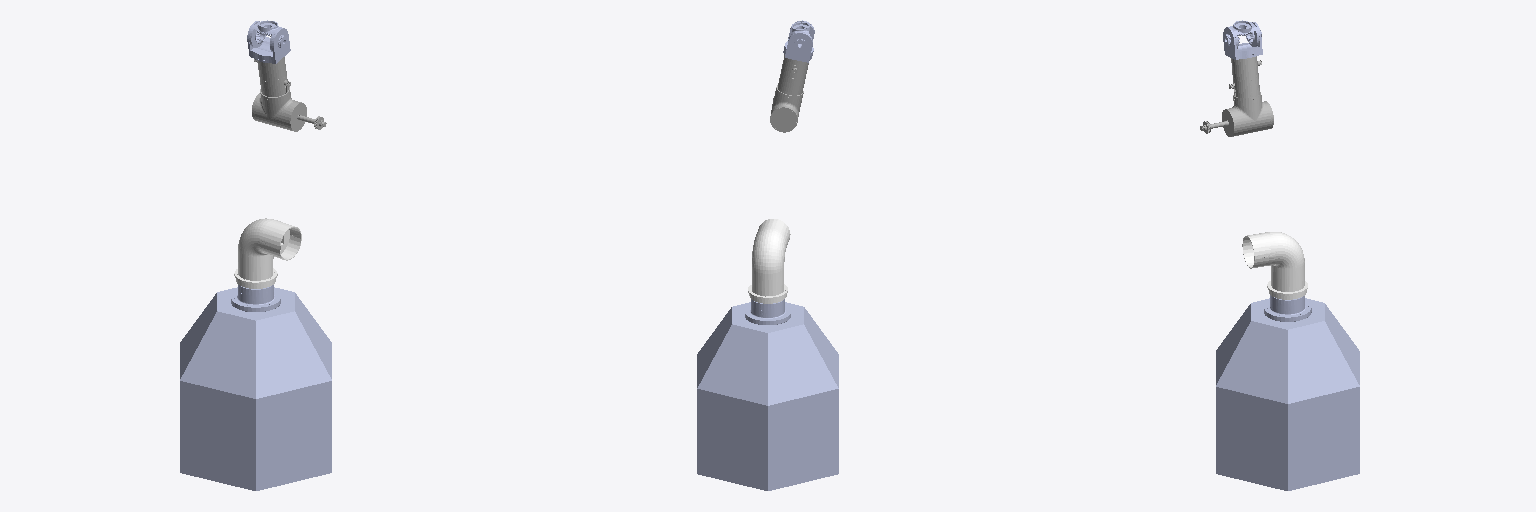
URDF robot description (full-arm-mar24-urdf-and-meshes):
<?xml version="1.0" encoding="utf-8"?>
<!-- This URDF was automatically created by SolidWorks to URDF Exporter! Originally created by Stephen Brawner (brawner@gmail.com) 
     Commit Version: 1.6.0-4-g7f85cfe  Build Version: 1.6.7995.38578
     For more information, please see http://wiki.ros.org/sw_urdf_exporter -->
<robot
  name="full-arm-mar24-urdf-and-meshes">
  <!-- Added dummy link so that KDL/intertial values are not ignored (KDL warning when running ros2 launch waybionic_bringup display.launch.py gone)-->
  <link name="world"/>
  <joint name="world_to_base" type="fixed">
    <parent link="world"/>
    <child  link="base_link"/>
    <!-- Center the exported base mesh on the world origin and put its lowest
         point on the Z=0 ground plane. The STL vertices retain the original
         SolidWorks assembly coordinates. -->
    <origin xyz="-0.800105 1.643392 -0.749746" rpy="0 0 0"/>
  </joint>
  <link
    name="base_link">
    <inertial>
      <origin
        xyz="0.8001 -1.6434 0.96967"
        rpy="0 0 0" />
      <mass
        value="3.0245" />
      <inertia
        ixx="0.13578"
        ixy="-3.996E-13"
        ixz="-3.2341E-12"
        iyy="0.12646"
        iyz="-2.0376E-12"
        izz="0.13578" />
    </inertial>
    <visual>
      <origin
        xyz="0 0 0"
        rpy="0 0 0" />
      <geometry>
        <mesh
          filename="package://waybionic_description/meshes/base_link.STL" />
      </geometry>
      <material
        name="">
        <color
          rgba="0.79216 0.81961 0.93333 1" />
      </material>
    </visual>
    <!-- Lightweight primitives keep collision checking fast and avoid asking
         FCL to build a BVH from the high-resolution visual mesh. -->
    <collision name="base_body_collision">
      <origin
        xyz="0.800105 -1.643392 1.00172"
        rpy="0 0 0" />
      <geometry>
        <box size="0.54 0.47 0.51" />
      </geometry>
    </collision>
    <collision name="base_top_collision">
      <origin
        xyz="0.800105 -1.643392 1.2862"
        rpy="0 0 0" />
      <geometry>
        <cylinder radius="0.078" length="0.070" />
      </geometry>
    </collision>
  </link>
  <link
    name="shoulder">
    <inertial>
      <origin
        xyz="0.018803 -0.01167 8.6599E-06"
        rpy="0 0 0" />
      <mass
        value="0.73934" />
      <inertia
        ixx="0.0018615"
        ixy="-0.0003921"
        ixz="-1.0719E-07"
        iyy="0.0015793"
        iyz="9.4857E-08"
        izz="0.0021357" />
    </inertial>
    <visual>
      <origin
        xyz="0 0 0"
        rpy="0 0 0" />
      <geometry>
        <mesh
          filename="package://waybionic_description/meshes/shoulder.STL" />
      </geometry>
      <material
        name="">
        <color
          rgba="1 1 1 1" />
      </material>
    </visual>
    <collision name="shoulder_body_collision">
      <origin
        xyz="0.034 0.035 0"
        rpy="0 0 0" />
      <geometry>
        <box size="0.21 0.235 0.14" />
      </geometry>
    </collision>
    <collision name="shoulder_shaft_collision">
      <origin
        xyz="0 -0.107 0"
        rpy="1.5708 0 0" />
      <geometry>
        <cylinder radius="0.040" length="0.070" />
      </geometry>
    </collision>
  </link>
  <joint
    name="joint1"
    type="revolute">
    <origin
      xyz="0.8001 -1.6434 1.3903"
      rpy="1.5708 0 -1.1999" />
    <parent
      link="base_link" />
    <child
      link="shoulder" />
    <axis
      xyz="0 0 1" />
    <limit
      lower="-3.14"
      upper="3.14"
      effort="100"
      velocity="1" />
  </joint>
  <link
    name="elbow">
    <inertial>
      <origin
        xyz="-0.10994 0.2063 0.060408"
        rpy="0 0 0" />
      <mass
        value="1.6571" />
      <inertia
        ixx="0.0040049"
        ixy="9.7618E-05"
        ixz="2.4251E-05"
        iyy="0.0020313"
        iyz="-0.00043052"
        izz="0.0038422" />
    </inertial>
    <visual>
      <origin
        xyz="0 0 0"
        rpy="0 0 0" />
      <geometry>
        <mesh
          filename="package://waybionic_description/meshes/elbow.STL" />
      </geometry>
      <material
        name="">
        <color
          rgba="0.75294 0.75294 0.75294 1" />
      </material>
    </visual>
    <collision name="elbow_proximal_collision">
      <origin
        xyz="-0.071 0.044 0.021"
        rpy="0 0 0" />
      <geometry>
        <box size="0.24 0.19 0.14" />
      </geometry>
    </collision>
    <collision name="elbow_link_collision">
      <origin
        xyz="-0.140 0.268 0.070"
        rpy="0 0 0" />
      <geometry>
        <box size="0.11 0.34 0.17" />
      </geometry>
    </collision>
    <collision name="elbow_distal_collision">
      <origin
        xyz="-0.140 0.440 0.105"
        rpy="0 0 0" />
      <geometry>
        <box size="0.11 0.14 0.115" />
      </geometry>
    </collision>
  </link>
  <joint
    name="joint2"
    type="revolute">
    <origin
      xyz="0.10285 0.058129 0.011405"
      rpy="2.8569 0 -3.1416" />
    <parent
      link="shoulder" />
    <child
      link="elbow" />
    <axis
      xyz="0 0 1" />
    <limit
      lower="-3.14"
      upper="3.14"
      effort="100"
      velocity="1" />
  </joint>
  <link
    name="forearm">
    <inertial>
      <origin
        xyz="1.3362E-05 0.054674 0.026205"
        rpy="0 0 0" />
      <mass
        value="1.1398" />
      <inertia
        ixx="0.0017411"
        ixy="4.9339E-08"
        ixz="3.3313E-07"
        iyy="0.0015113"
        iyz="2.8369E-05"
        izz="0.0013902" />
    </inertial>
    <visual>
      <origin
        xyz="0 0 0"
        rpy="0 0 0" />
      <geometry>
        <mesh
          filename="package://waybionic_description/meshes/forearm.STL" />
      </geometry>
      <material
        name="">
        <color
          rgba="0.75294 0.75294 0.75294 1" />
      </material>
    </visual>
    <collision name="forearm_proximal_collision">
      <origin
        xyz="0 0.0175 0.0655"
        rpy="0 0 0" />
      <geometry>
        <box size="0.10 0.135 0.245" />
      </geometry>
    </collision>
    <collision name="forearm_link_collision">
      <origin
        xyz="0 0.145 0.0132"
        rpy="0 0 0" />
      <geometry>
        <box size="0.09 0.17 0.12" />
      </geometry>
    </collision>
  </link>
  <joint
    name="joint3"
    type="continuous">
    <origin
      xyz="0.00017 0.47022 0.10797"
      rpy="0.84036 -1.4494 -0.82578" />
    <parent
      link="elbow" />
    <child
      link="forearm" />
    <axis
      xyz="0 0 1" />
    <limit
      lower="-3.14"
      upper="3.14"
      effort="100"
      velocity="1" />
  </joint>
  <link
    name="wrist">
    <inertial>
      <origin
        xyz="0.00079289 0.048601 1.9326E-06"
        rpy="0 0 0" />
      <mass
        value="0.36714" />
      <inertia
        ixx="0.00049207"
        ixy="-1.7262E-06"
        ixz="-1.746E-08"
        iyy="0.00050366"
        iyz="6.9145E-09"
        izz="0.00034393" />
    </inertial>
    <visual>
      <origin
        xyz="0 0 0"
        rpy="0 0 0" />
      <geometry>
        <mesh
          filename="package://waybionic_description/meshes/wrist.STL" />
      </geometry>
      <material
        name="">
        <color
          rgba="0.79216 0.81961 0.93333 1" />
      </material>
    </visual>
    <collision name="wrist_collision">
      <origin
        xyz="0 0.054 0"
        rpy="0 0 0" />
      <geometry>
        <box size="0.10 0.115 0.12" />
      </geometry>
    </collision>
  </link>
  <joint
    name="joint4"
    type="revolute">
    <origin
      xyz="0 0.210000000000002 0.0132179574096474"
      rpy="0 0 0" />
    <parent
      link="forearm" />
    <child
      link="wrist" />
    <axis
      xyz="0 0 1" />
    <limit
      lower="-3.14"
      upper="3.14"
      effort="100"
      velocity="1" />
  </joint>
</robot>

--- Render facts (derived) ---
Views: 3 orthographic renders of the robot side by side, from view 1: azimuth 30°, elevation 25°; view 2: azimuth 150°, elevation 25°; view 3: azimuth 270°, elevation 25°.
Robot: full-arm-mar24-urdf-and-meshes — 6 links, 5 joints (3 revolute, 1 continuous, 1 fixed); root link world; default pose: every joint at zero.
Visible links, largest first — view 1: base_link, shoulder, forearm, wrist; view 2: base_link, shoulder, forearm, wrist; view 3: base_link, shoulder, forearm, wrist.
Link boxes in pixels (left/top/right/bottom): base_link: left=180, top=285, right=331, bottom=490; shoulder: left=234, top=218, right=301, bottom=288; forearm: left=252, top=57, right=326, bottom=131; wrist: left=247, top=20, right=290, bottom=63; base_link: left=697, top=299, right=838, bottom=490; shoulder: left=748, top=219, right=790, bottom=303; forearm: left=770, top=55, right=808, bottom=132; wrist: left=783, top=20, right=814, bottom=62; base_link: left=1216, top=295, right=1359, bottom=490; shoulder: left=1242, top=232, right=1307, bottom=299; forearm: left=1200, top=56, right=1273, bottom=136; wrist: left=1223, top=20, right=1262, bottom=59.
Size in the robot's own frame: 0.5279 by 0.5067 by 1.49 metres.
4 mesh visuals loaded from 5 distinct referenced files (4 binary STL); not drawn: 1 (reference not matched to a file when rendering).
